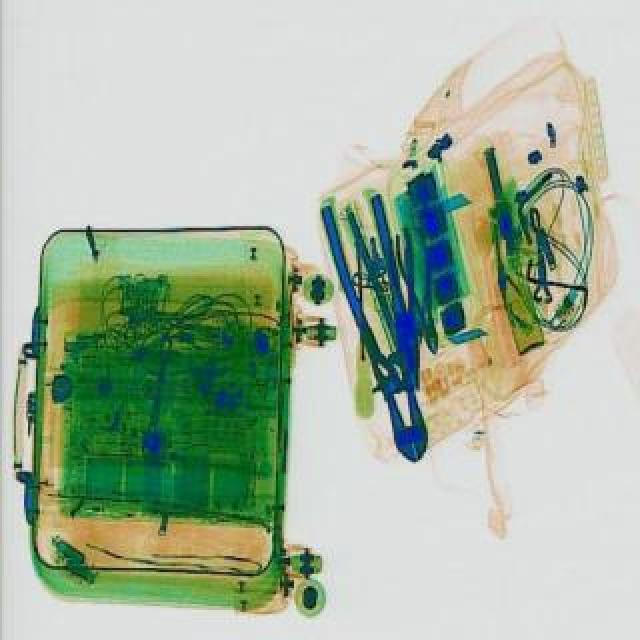wrench: (318, 190, 450, 466), (368, 230, 436, 392), (390, 224, 454, 352)
